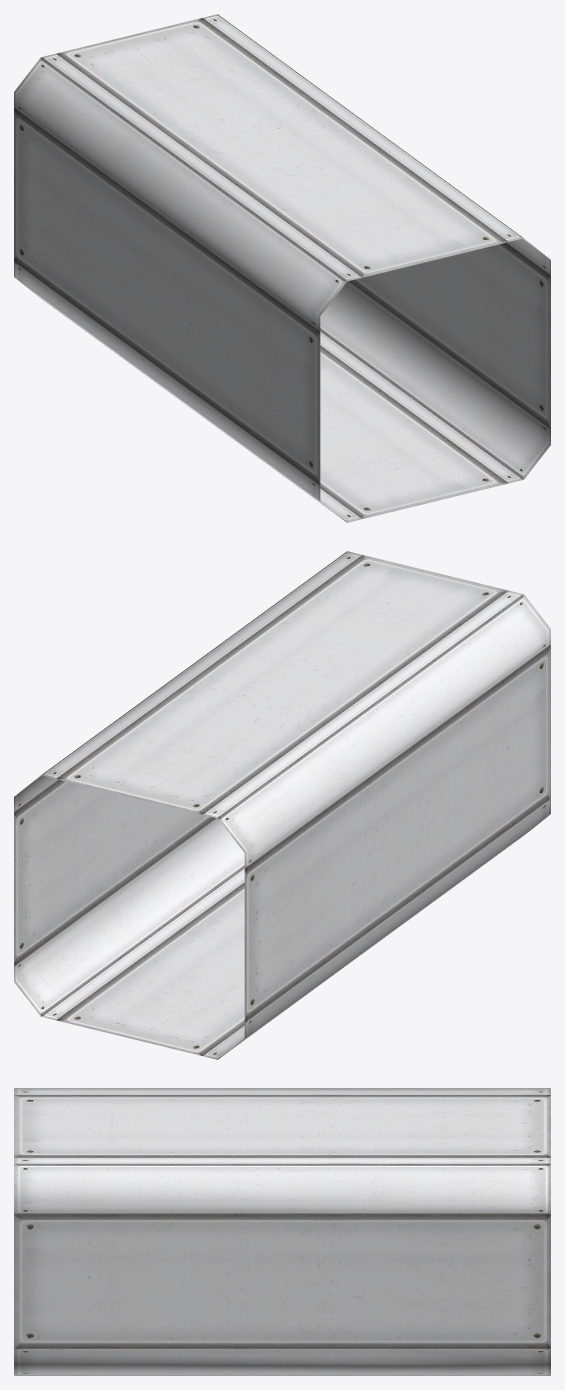
The model's file is CeilingBrace_1x3cappedB.FBX.
The picture shows the model from 3 angles, top to bottom: view 1: azimuth 30°, elevation 25°; view 2: azimuth 150°, elevation 25°; view 3: azimuth 270°, elevation 25°; orthographic projection. The views are drawn at different scales.
Visible parts, largest first — view 1: CeilingBrace_1x3cappedB; view 2: CeilingBrace_1x3cappedB; view 3: CeilingBrace_1x3cappedB.
Boxes of the visible parts, <box> form: CeilingBrace_1x3cappedB: <box>14,14,550,522</box>; CeilingBrace_1x3cappedB: <box>14,551,550,1059</box>; CeilingBrace_1x3cappedB: <box>14,1088,550,1375</box>.
Size of the model in its own units: 1.3 by 1.3 by 3.
